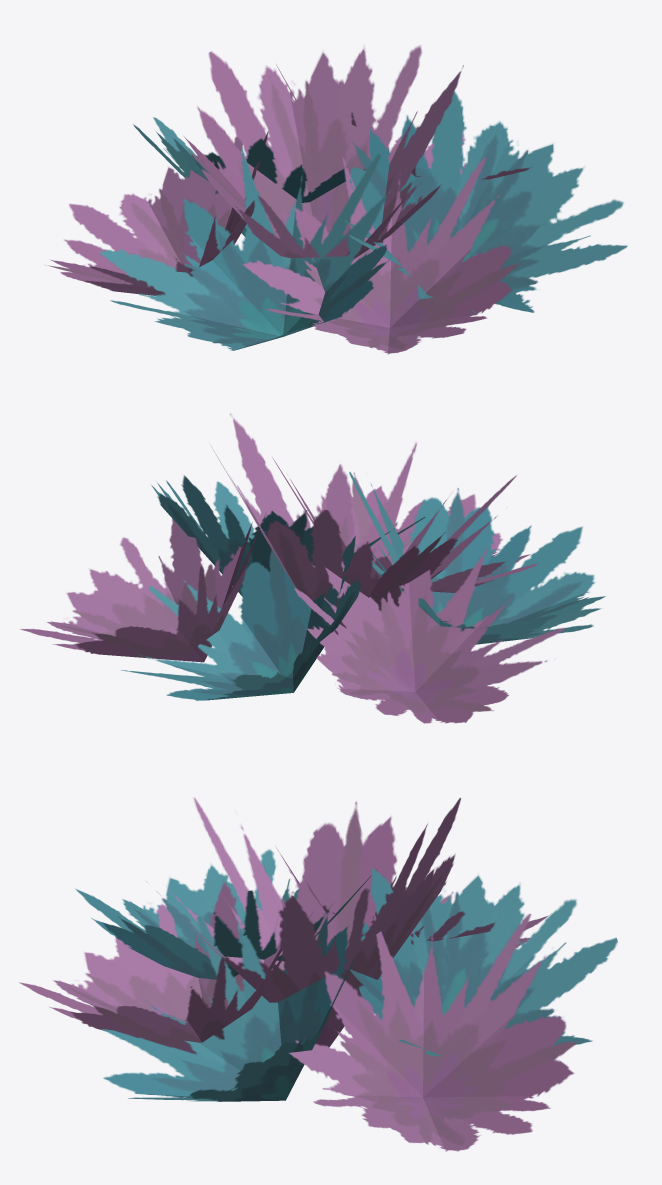
File: Plant_12.glb
3 views of the same model, one above another, from view 1: azimuth 30°, elevation 25°; view 2: azimuth 150°, elevation 25°; view 3: azimuth 270°, elevation 25° (orthographic). The views are drawn at different scales.
Visible parts, largest first — view 1: Plant_12; view 2: Plant_12; view 3: Plant_12.
Part boxes in pixels (x1,y1,x2,y2): Plant_12: [45, 45, 627, 354]; Plant_12: [20, 413, 605, 723]; Plant_12: [19, 797, 617, 1151].
Size of the model in its own units: 1.28 by 0.4986 by 1.2.
1 material, 1 textured.
